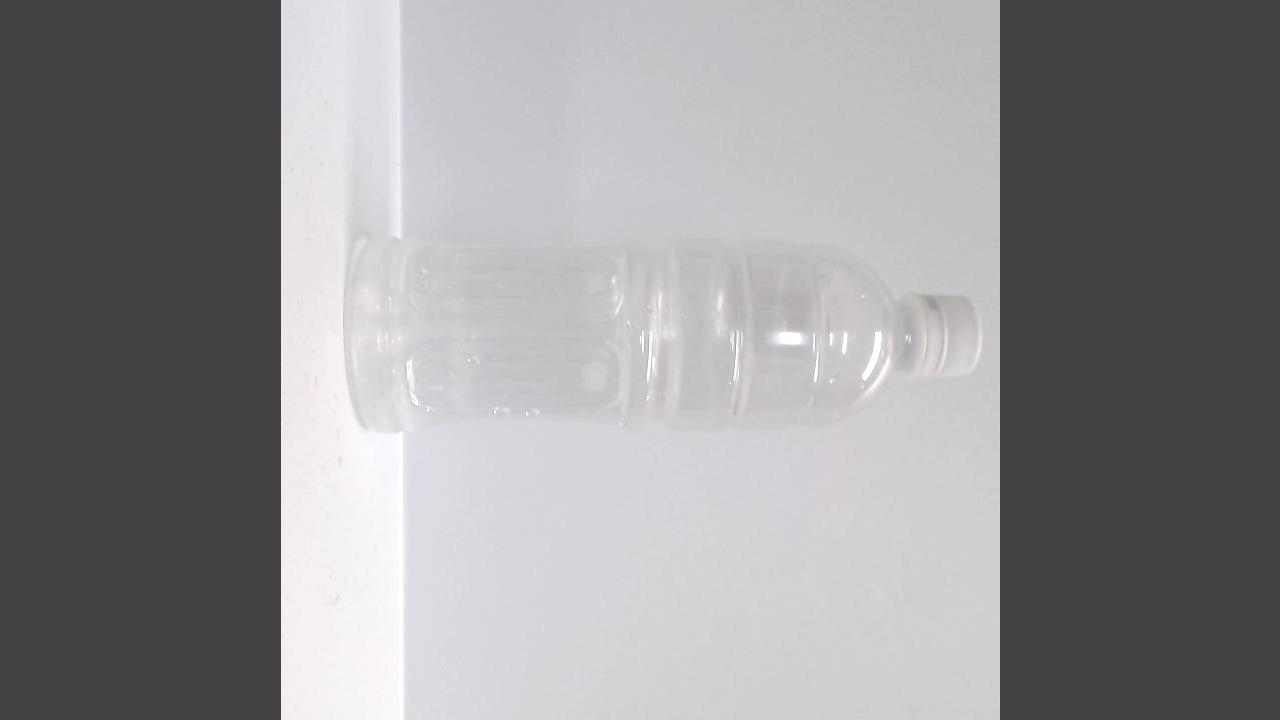bottle: (341, 220, 983, 439)
